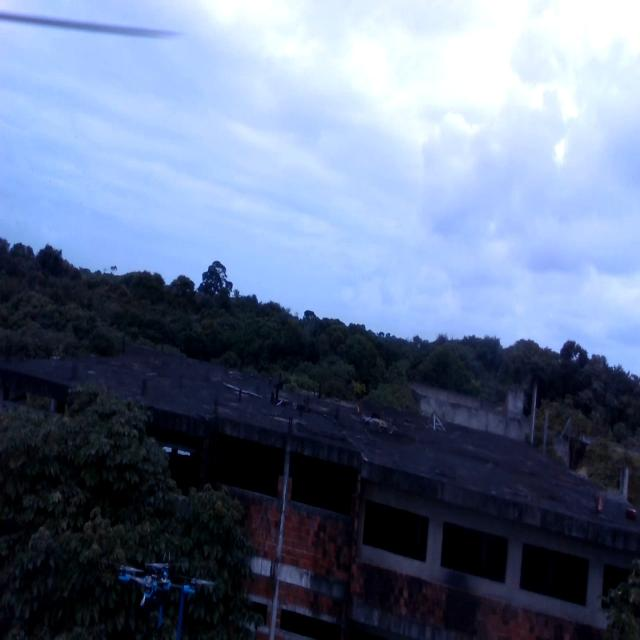-uav-: (115, 557, 223, 640)
